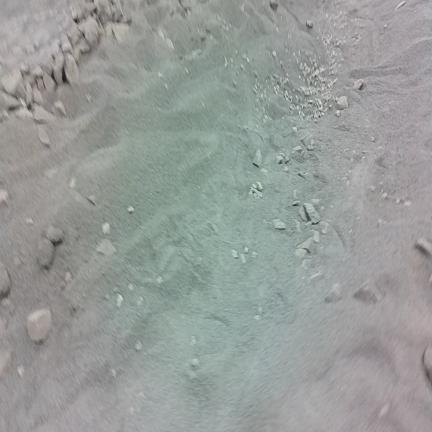Rock: (27, 308, 52, 342), (78, 16, 103, 49), (2, 69, 22, 95), (38, 239, 54, 269), (64, 53, 78, 84), (0, 91, 21, 111), (0, 261, 11, 299), (53, 52, 64, 85), (34, 105, 54, 123), (422, 344, 431, 384), (67, 21, 81, 46), (45, 226, 64, 244), (325, 284, 342, 304), (18, 82, 32, 106), (112, 23, 129, 42), (304, 203, 320, 223), (97, 239, 116, 255), (415, 238, 431, 256), (297, 237, 314, 253), (38, 126, 50, 148), (40, 55, 53, 75), (43, 73, 55, 92), (61, 34, 72, 53), (54, 101, 66, 117), (33, 86, 43, 105), (336, 96, 348, 110), (253, 149, 262, 166), (0, 189, 8, 208), (79, 40, 90, 53), (299, 207, 308, 222), (274, 219, 286, 230), (73, 46, 80, 64), (32, 66, 43, 76), (354, 79, 364, 90), (395, 0, 405, 10), (37, 77, 44, 91), (0, 110, 8, 122), (134, 340, 142, 351), (166, 38, 174, 49), (270, 0, 278, 11), (190, 358, 200, 366), (136, 296, 144, 306), (158, 27, 164, 40), (117, 294, 123, 306), (103, 223, 110, 233), (306, 20, 313, 28), (156, 276, 163, 284), (195, 257, 202, 265), (65, 272, 71, 281), (257, 182, 263, 191), (293, 146, 302, 152), (18, 366, 23, 376), (277, 155, 283, 163), (232, 250, 238, 258), (241, 254, 246, 263), (128, 206, 134, 213), (252, 192, 258, 199), (128, 284, 134, 290), (294, 190, 298, 199), (382, 192, 388, 198), (369, 185, 375, 191), (307, 145, 313, 150), (273, 51, 276, 58), (253, 252, 257, 257), (158, 72, 162, 77), (253, 184, 257, 189), (245, 247, 248, 253), (186, 68, 188, 74), (293, 127, 296, 131), (276, 27, 278, 33), (165, 84, 167, 89), (24, 103, 25, 104)
